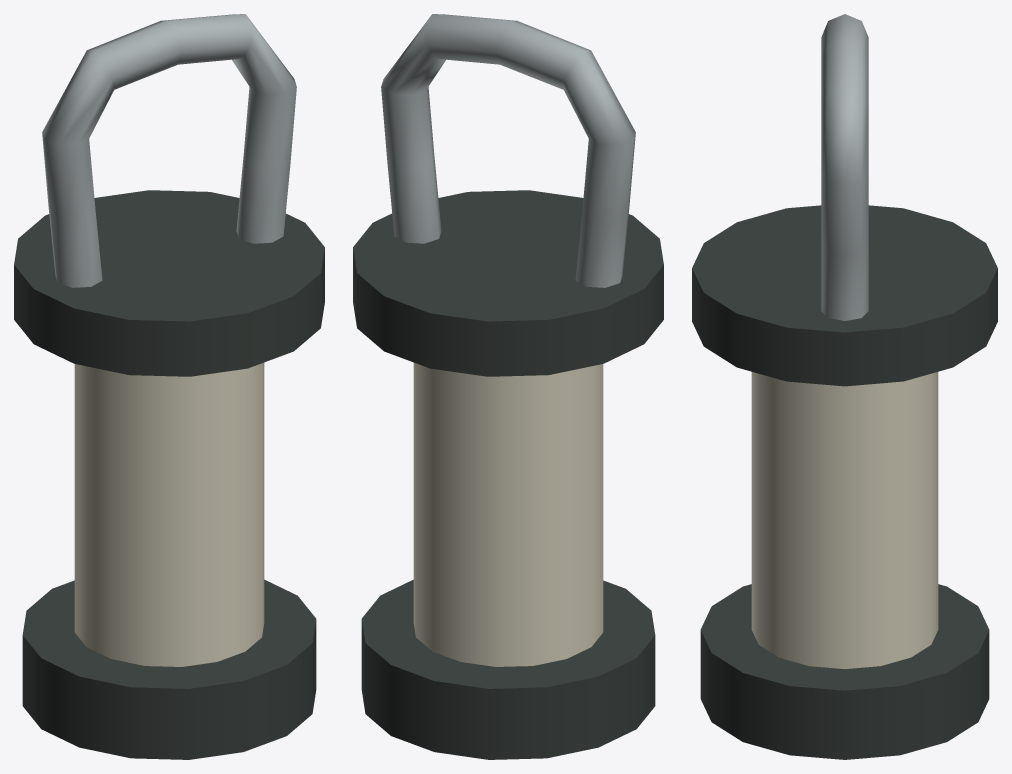
Rendered from off-grid-power-and-controls-hanging-lantern-95ddbe12__3020.glb.
The picture shows the model from 3 angles, left to right: view 1: azimuth 30°, elevation 25°; view 2: azimuth 150°, elevation 25°; view 3: azimuth 270°, elevation 25°; orthographic projection. The views are drawn at different scales.
Parts seen in each view (by area): view 1: hanging-lantern; view 2: hanging-lantern; view 3: hanging-lantern.
Part boxes in pixels (x1,y1,x2,y2): hanging-lantern: [14, 14, 324, 759]; hanging-lantern: [353, 14, 663, 759]; hanging-lantern: [692, 14, 997, 759].
Size of the model in its own units: 0.18 by 0.429 by 0.18.
